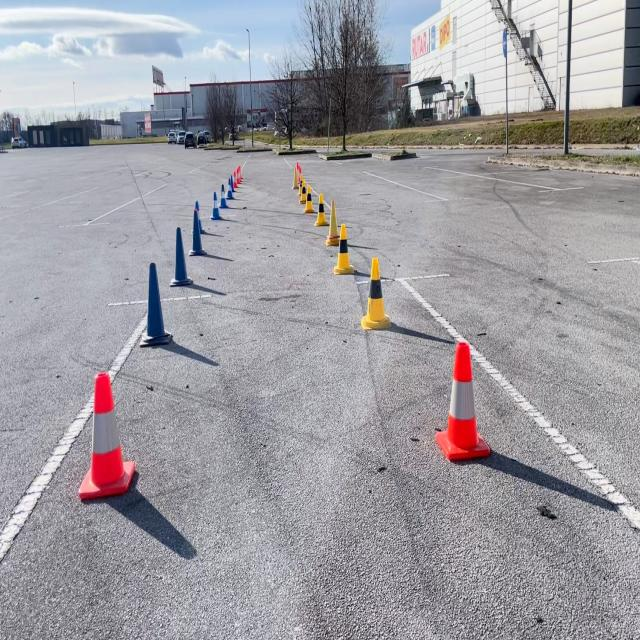blue_cone: (140, 263, 171, 348), (170, 226, 192, 286), (189, 209, 205, 256), (195, 199, 205, 233), (210, 192, 222, 220), (218, 184, 229, 208), (225, 178, 234, 199), (231, 175, 236, 191)
orange_cone: (79, 374, 135, 501), (435, 341, 491, 461), (233, 171, 238, 187), (235, 168, 240, 184), (298, 168, 302, 184), (237, 167, 241, 181), (297, 165, 300, 180), (239, 165, 242, 178), (296, 162, 298, 176)
yellow_cone: (360, 256, 392, 332), (334, 223, 355, 275), (325, 200, 340, 246), (313, 193, 330, 226), (303, 185, 315, 213), (299, 181, 306, 204), (292, 167, 299, 190), (297, 174, 303, 196)
